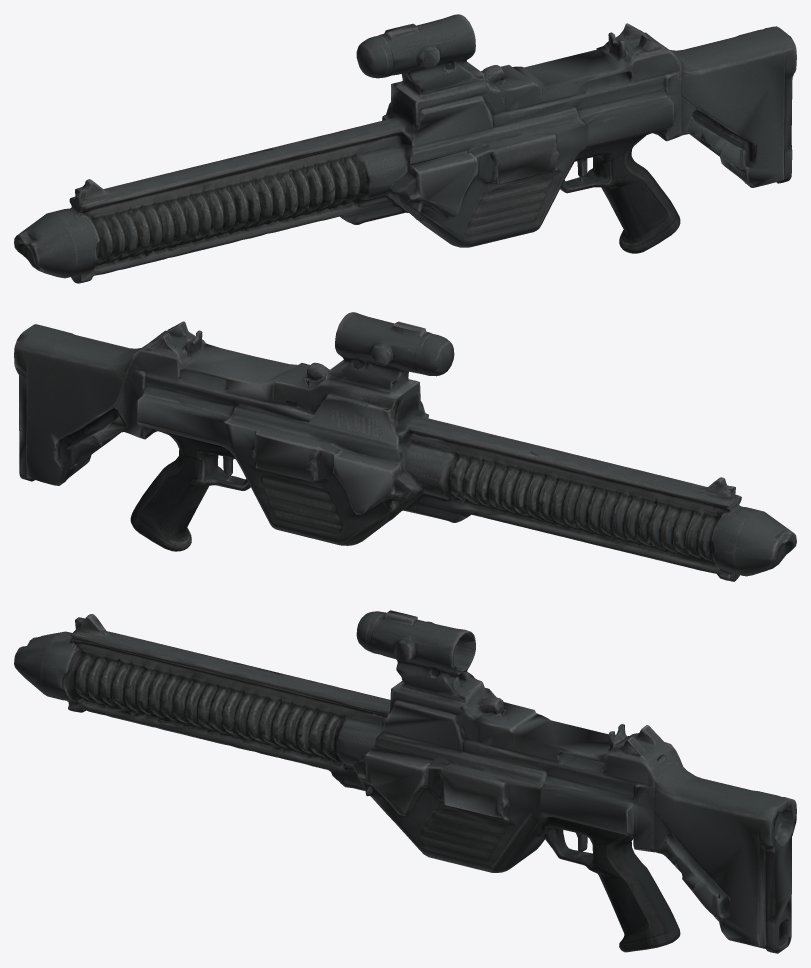
Rendered from railgun-electromagnetique.glb.
The picture shows the model from 3 angles, top to bottom: view 1: azimuth 30°, elevation 25°; view 2: azimuth 150°, elevation 25°; view 3: azimuth 330°, elevation 25°; orthographic projection.
Visible parts, largest first — view 1: Mesh_0; view 2: Mesh_0; view 3: Mesh_0.
Part boxes in pixels (x1,y1,x2,y2): Mesh_0: [14, 14, 796, 283]; Mesh_0: [14, 312, 796, 581]; Mesh_0: [14, 610, 796, 953].
Size of the model in its own units: 0.7159 by 0.25 by 0.0897.
1 material, 1 textured.
